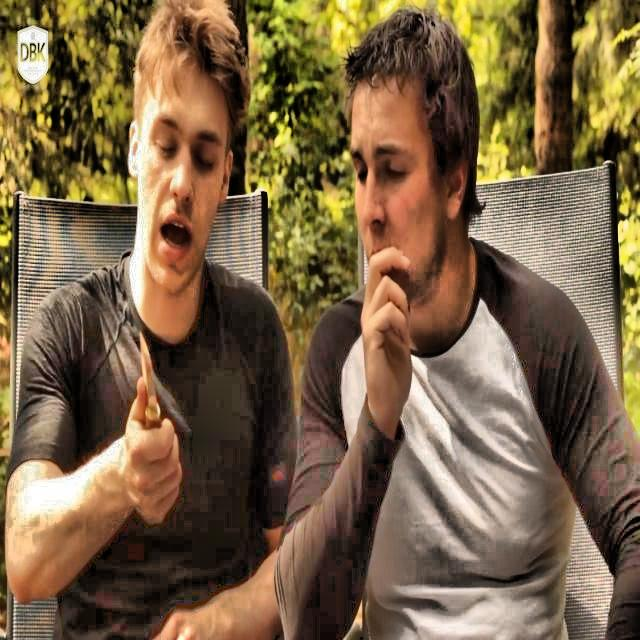knife: (140, 335, 164, 430)
